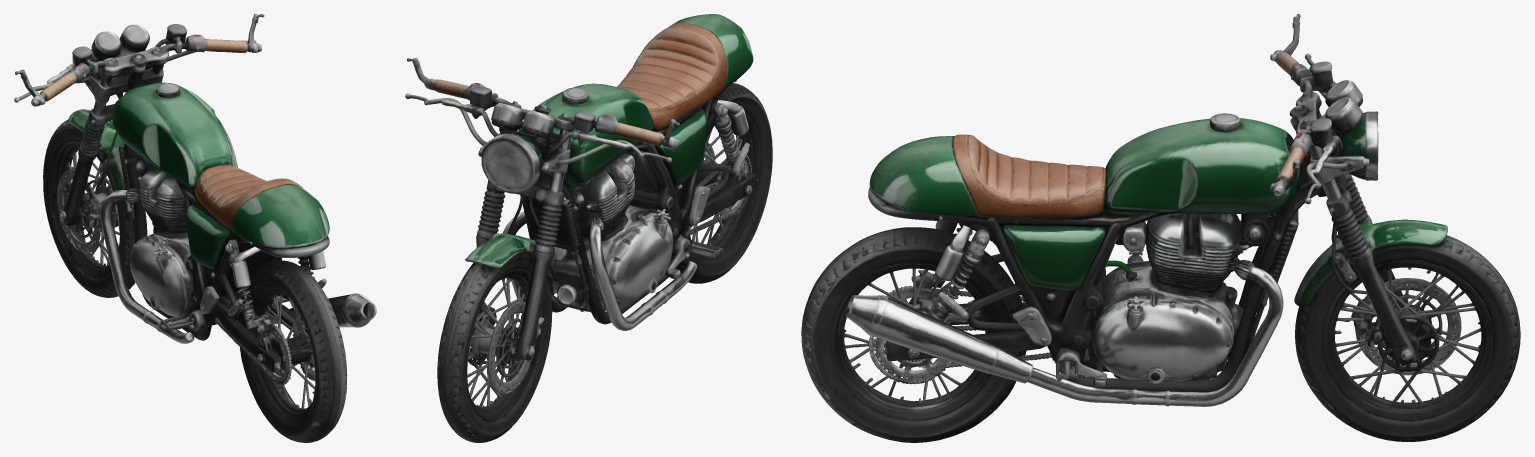
Rendered from classica-900.glb.
3 renders of one model, left to right at view 1: azimuth 30°, elevation 25°; view 2: azimuth 150°, elevation 25°; view 3: azimuth 270°, elevation 25°, orthographic. The views are drawn at different scales.
Visible parts, largest first — view 1: tripo_node_7614314c-25cd-4796-b519-341eb19abfdb; view 2: tripo_node_7614314c-25cd-4796-b519-341eb19abfdb; view 3: tripo_node_7614314c-25cd-4796-b519-341eb19abfdb.
Part boxes in pixels (box(x1,y1,x2,y2)): tripo_node_7614314c-25cd-4796-b519-341eb19abfdb: box(14, 14, 376, 442); tripo_node_7614314c-25cd-4796-b519-341eb19abfdb: box(405, 14, 772, 442); tripo_node_7614314c-25cd-4796-b519-341eb19abfdb: box(801, 14, 1520, 442).
Size of the model in its own units: 0.4871 by 0.5304 by 0.9791.
1 material, 1 textured.
